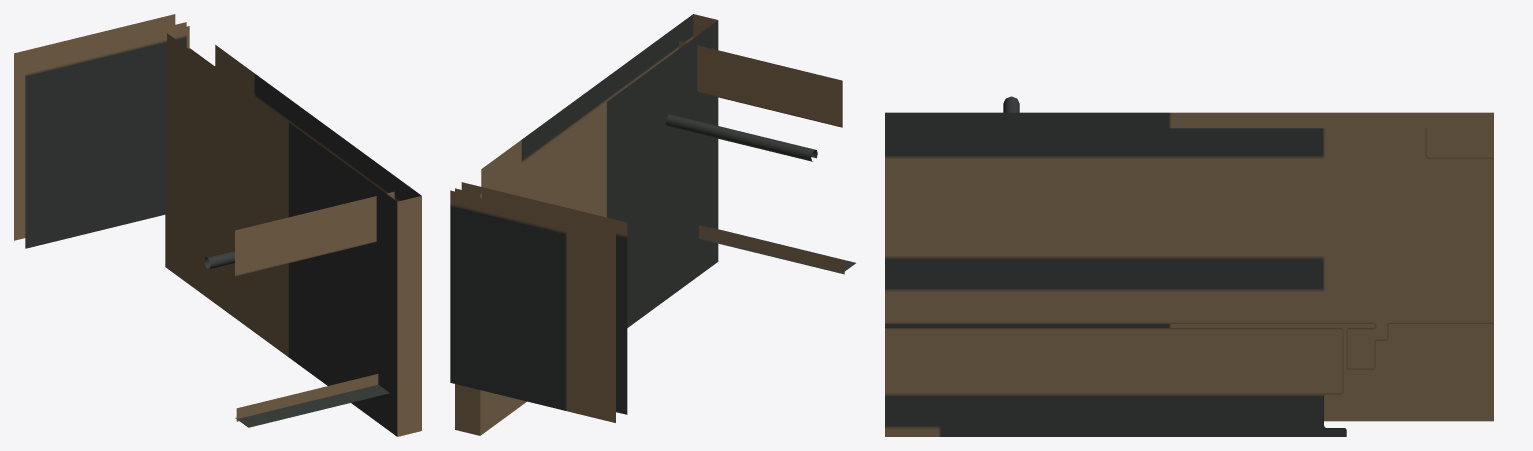
The model's file is section-5.obj.
3 renders of one model, left to right at view 1: azimuth 30°, elevation 25°; view 2: azimuth 150°, elevation 25°; view 3: azimuth 270°, elevation 25°, orthographic. The views are drawn at different scales.
Bounding box in the file's own units: 0.694 × 0.8435 × 1.53.
